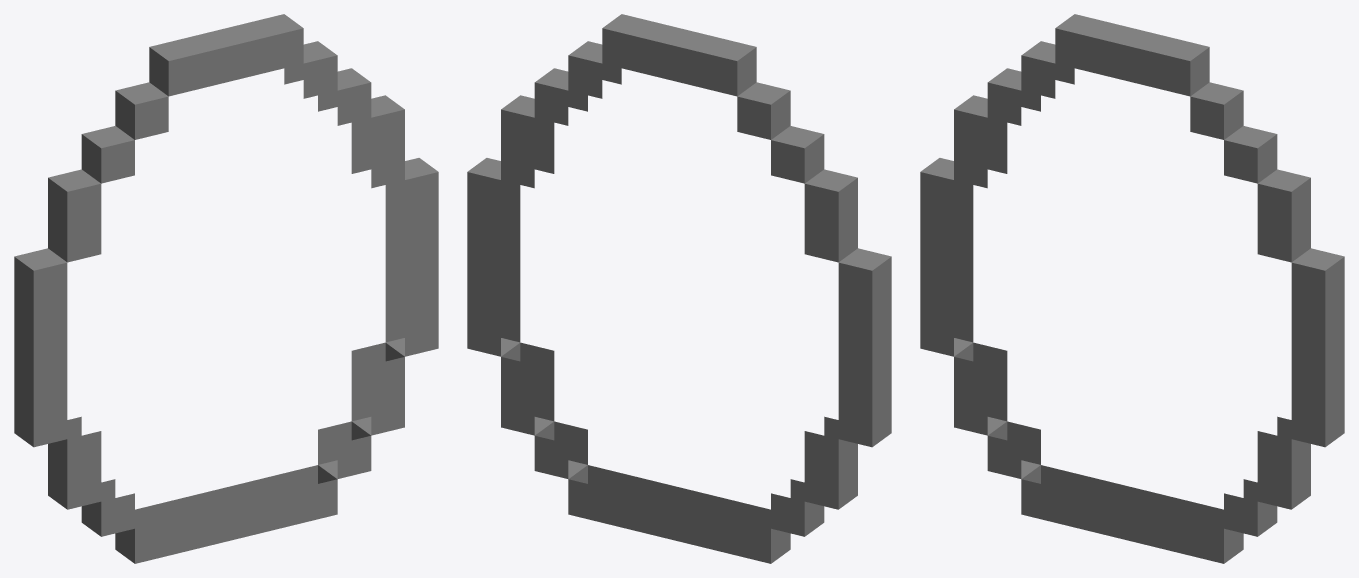
The model's file is diamond.obj.
3 views of the same model, side by side, from view 1: azimuth 30°, elevation 25°; view 2: azimuth 150°, elevation 25°; view 3: azimuth 330°, elevation 25° (orthographic).
Bounding box in the file's own units: 1.2 × 1.4 × 0.1.
